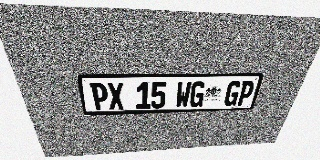1: (136, 82, 151, 109)
5: (151, 82, 167, 108)
G: (223, 81, 242, 106), (189, 81, 207, 107)
P: (90, 83, 109, 110), (236, 81, 256, 106)
W: (175, 81, 192, 108)
X: (107, 82, 125, 110)
